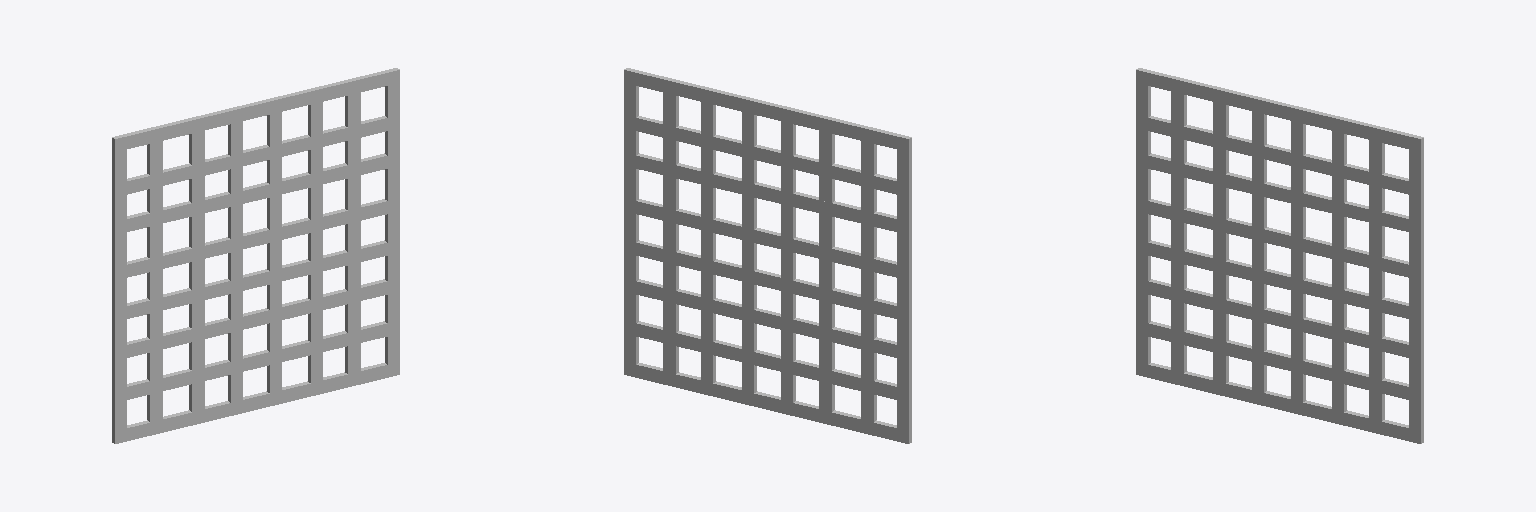
The model's file is GeoMesh.obj.
The picture shows the model from 3 angles: view 1: azimuth 30°, elevation 25°; view 2: azimuth 150°, elevation 25°; view 3: azimuth 330°, elevation 25°; orthographic projection.
Parts seen in each view (by area): view 1: Object.16, Object.1, Object.15, Object.3, Object.14, Object.5, Object.6, Object.10, Object.2, Object.7, Object.4, Object.8 (+4 smaller); view 2: Object.3, Object.11, Object.12, Object.13, Object.5, Object.6, Object.10, Object.7, Object.8, Object.2, Object.4, Object.9 (+4 smaller); view 3: Object.1, Object.16, Object.6, Object.5, Object.3, Object.10, Object.7, Object.2, Object.15, Object.8, Object.9, Object.4 (+4 smaller).
Part boxes in pixels (x1,y1,x2,y2): Object.16: (112,320,399,402); Object.1: (112,362,399,443); Object.15: (112,279,399,360); Object.3: (112,68,399,151); Object.14: (112,240,399,321); Object.5: (147,134,162,422); Object.6: (189,124,204,411); Object.10: (345,86,360,385); Object.2: (112,143,126,443); Object.7: (228,115,242,402); Object.4: (385,76,399,364); Object.8: (267,105,281,404); Object.3: (624,68,911,151); Object.11: (624,115,911,197); Object.12: (624,153,911,234); Object.13: (624,198,911,280); Object.5: (861,139,876,435); Object.6: (819,131,834,425); Object.10: (663,93,678,386); Object.7: (781,121,795,415); Object.8: (742,112,756,405); Object.2: (897,150,911,443); Object.4: (624,83,638,377); Object.9: (701,102,715,395); Object.1: (1136,362,1423,443); Object.16: (1136,321,1423,402); Object.6: (1213,95,1228,388); Object.5: (1171,85,1186,374); Object.3: (1136,68,1423,151); Object.10: (1369,133,1384,432); Object.7: (1252,105,1266,393); Object.2: (1136,76,1150,364); Object.15: (1138,279,1423,360); Object.8: (1291,114,1305,408); Object.9: (1332,124,1346,411); Object.4: (1409,143,1423,430).
Bounding box in the file's own units: 109 × 112 × 1.99.